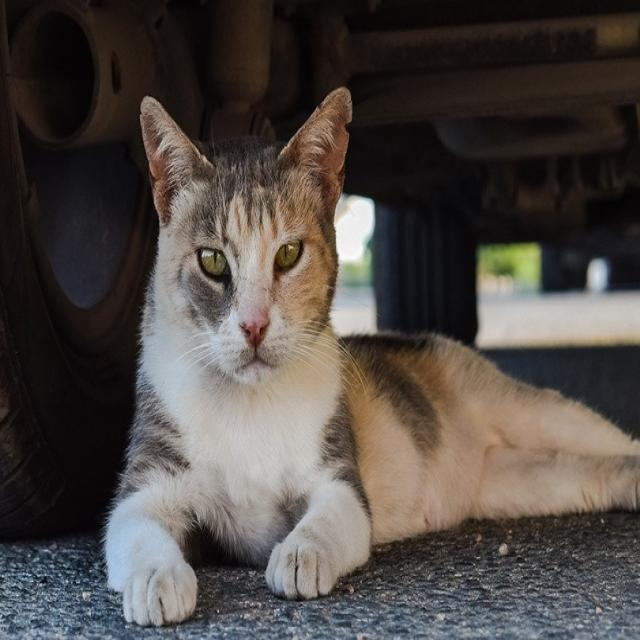cat: (105, 88, 640, 626)
